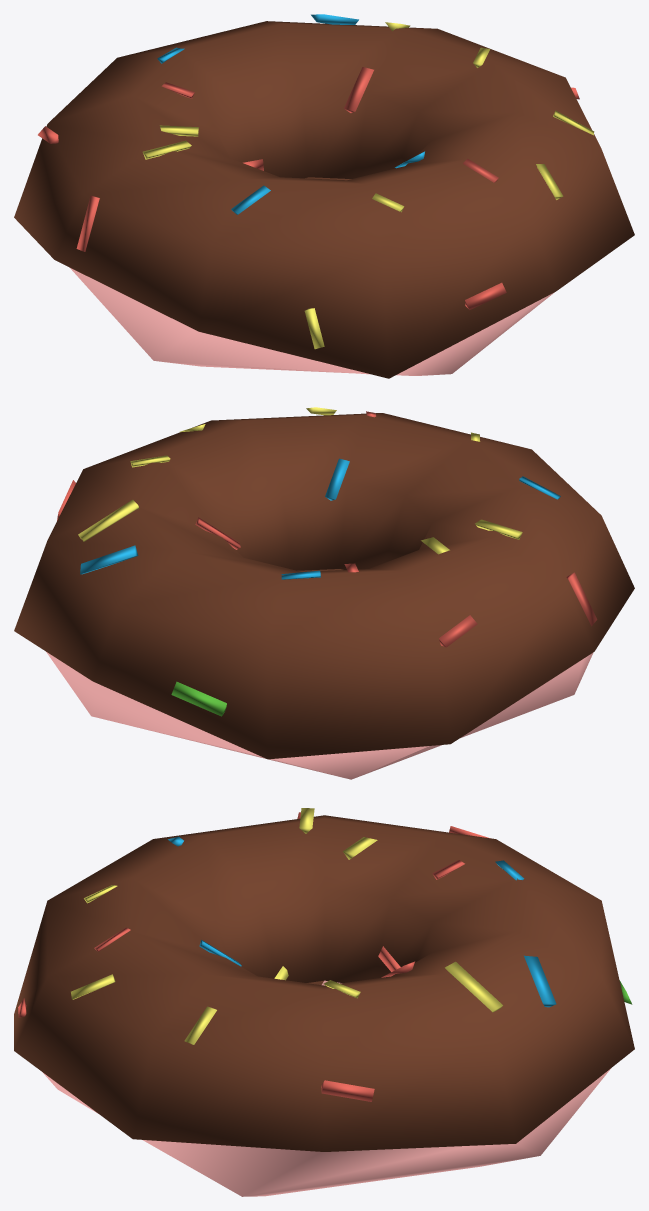
Rendered from cicle.fbx.
3 renders of one model, top to bottom at view 1: azimuth 30°, elevation 25°; view 2: azimuth 150°, elevation 25°; view 3: azimuth 270°, elevation 25°, orthographic. The views are drawn at different scales.
Parts seen in each view (by area): view 1: circle.006; view 2: circle.006; view 3: circle.006.
Part boxes in pixels (bbox=[...]): circle.006: bbox=[14, 14, 634, 378]; circle.006: bbox=[14, 407, 634, 779]; circle.006: bbox=[14, 808, 634, 1196].
Bounding box in the file's own units: 105 × 39.32 × 100.
Materials: 1 (1 with a texture image).
